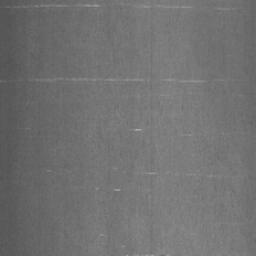Waist folding: (0, 0, 239, 12), (0, 75, 224, 85), (113, 165, 237, 180), (56, 185, 151, 196), (125, 247, 185, 256), (224, 250, 256, 256), (46, 167, 70, 173), (239, 93, 256, 98), (130, 127, 143, 133)
